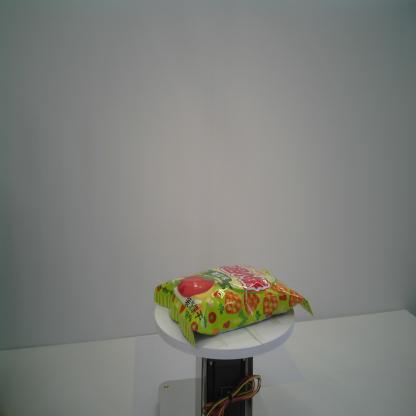Puffed Food: (152, 261, 314, 349)
